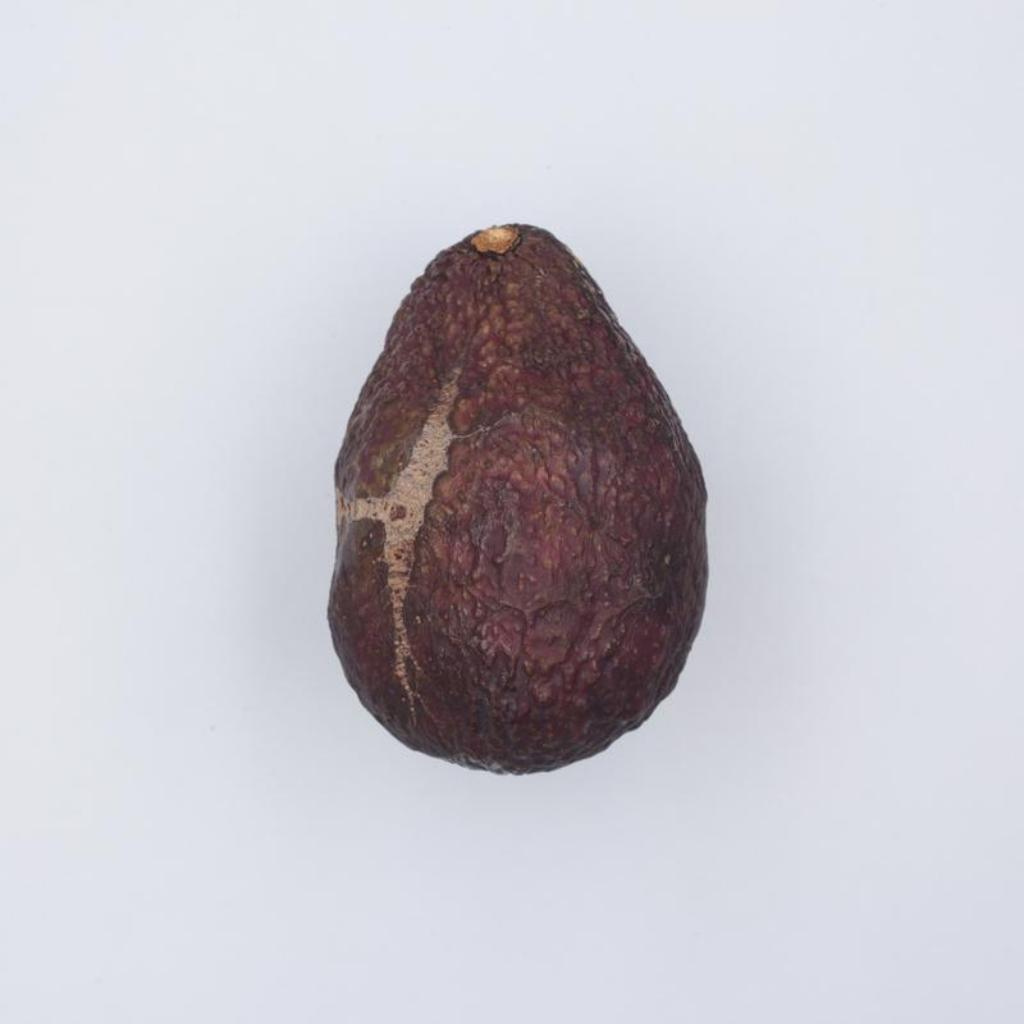rona: (328, 224, 708, 772)
